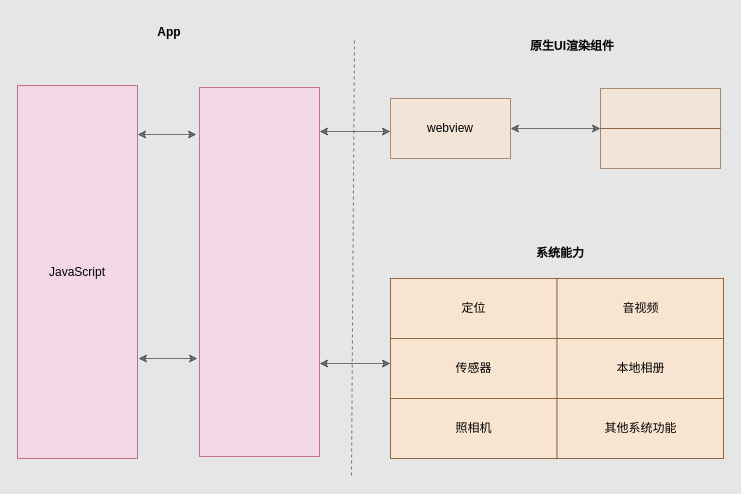
Some shapes in this 741 by 494 pixel diagram are drawn without their labels. Here are the shapes that lost their labels. From the top down, the centre of each, then its label:
At pixel 660 108: "系统绘制".
At pixel 660 148: "事件".
At pixel 259 271: "JS Bridge".
